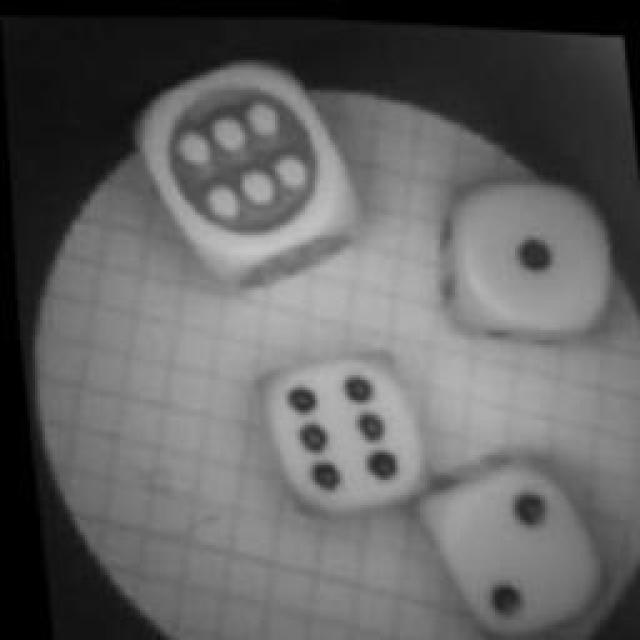dice_1: (434, 160, 618, 338)
dice_2: (406, 429, 616, 639)
dice_6: (129, 41, 369, 291), (248, 336, 438, 526)
